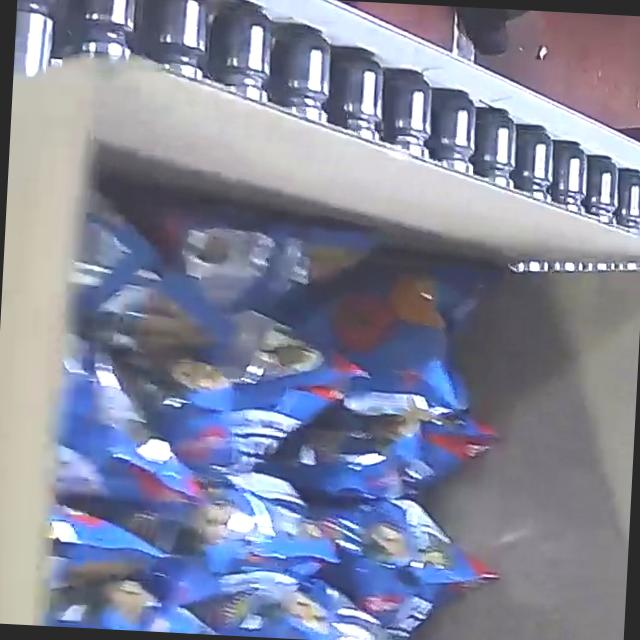paprika: (36, 204, 521, 640)
